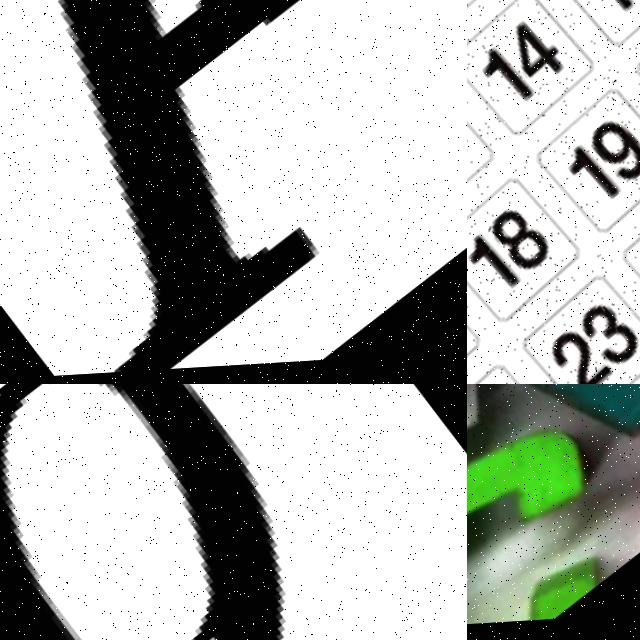1: (549, 135, 630, 227), (467, 43, 540, 127), (467, 224, 523, 314), (565, 0, 637, 34)
2: (531, 326, 610, 384)
3: (560, 289, 640, 383)
4: (491, 11, 576, 105)
8: (468, 186, 560, 290)
9: (0, 384, 442, 640), (574, 107, 640, 205)
C: (467, 384, 640, 638)
F: (0, 0, 467, 384)
H: (467, 384, 595, 605)
K: (467, 384, 640, 505)
